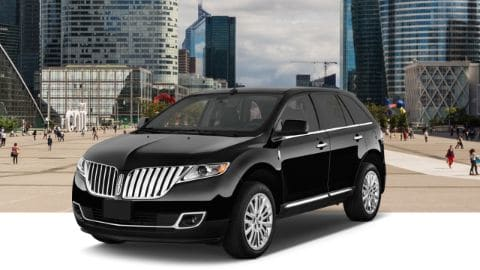car: (67, 83, 398, 264)
